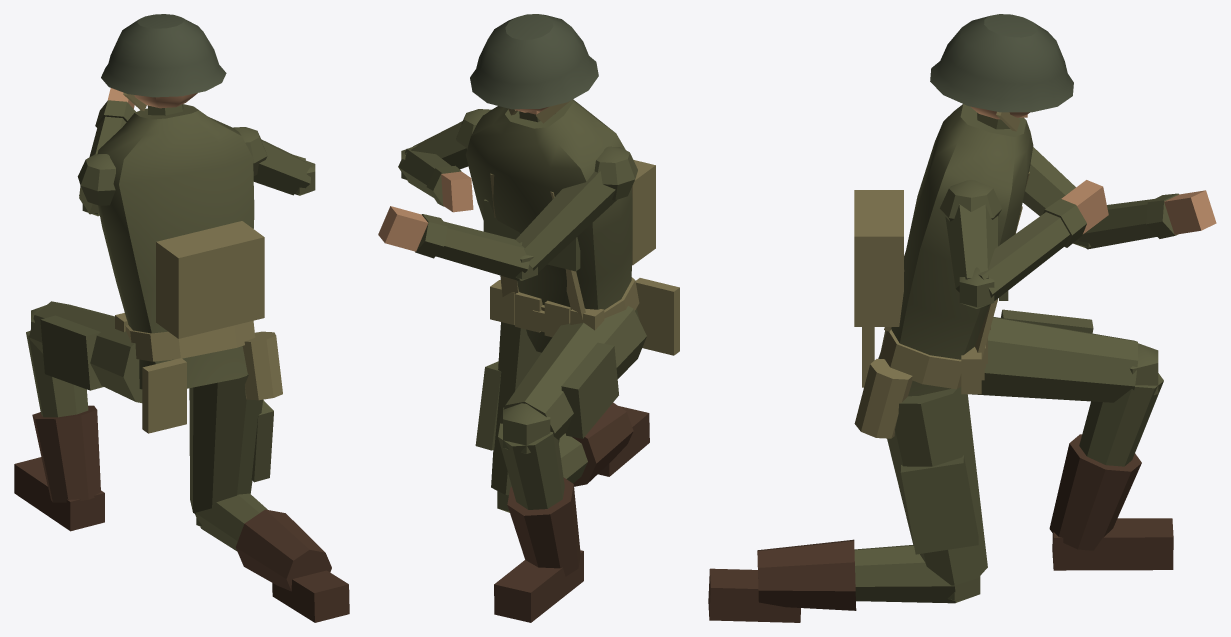
File: soldier_us_kneel_fire.glb
The picture shows the model from 3 angles, left to right: view 1: azimuth 30°, elevation 25°; view 2: azimuth 150°, elevation 25°; view 3: azimuth 270°, elevation 25°; orthographic projection. The views are drawn at different scales.
Visible parts, largest first — view 1: soldier_us_kneel_fire; view 2: soldier_us_kneel_fire; view 3: soldier_us_kneel_fire.
Boxes of the visible parts, <box> form: soldier_us_kneel_fire: <box>14,14,349,622</box>; soldier_us_kneel_fire: <box>378,14,679,622</box>; soldier_us_kneel_fire: <box>708,14,1216,622</box>.
Bounding box in the file's own units: 0.6429 × 1.37 × 1.1.
